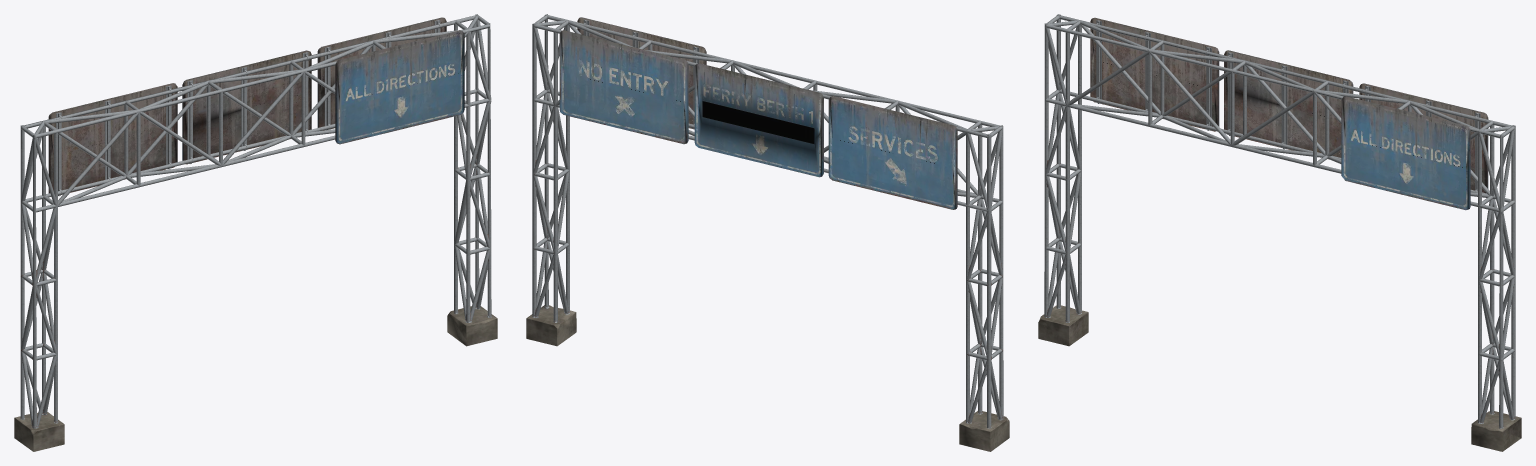
File: road_sign_overhead_gantry_a.glb
3 renders of one model, left to right at view 1: azimuth 30°, elevation 25°; view 2: azimuth 150°, elevation 25°; view 3: azimuth 330°, elevation 25°, orthographic.
Parts seen in each view (by area): view 1: road_sign_overhead_gantry_a_LOD0; view 2: road_sign_overhead_gantry_a_LOD0; view 3: road_sign_overhead_gantry_a_LOD0.
Part boxes in pixels (bbox=[...]): road_sign_overhead_gantry_a_LOD0: bbox=[14, 14, 497, 451]; road_sign_overhead_gantry_a_LOD0: bbox=[526, 14, 1009, 451]; road_sign_overhead_gantry_a_LOD0: bbox=[1038, 14, 1521, 451].
Bounding box in the file's own units: 16.41 × 10.69 × 1.18.
3 materials, 3 textured.
